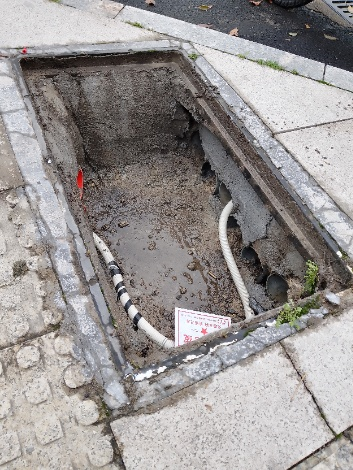lose: (7, 45, 353, 384)
